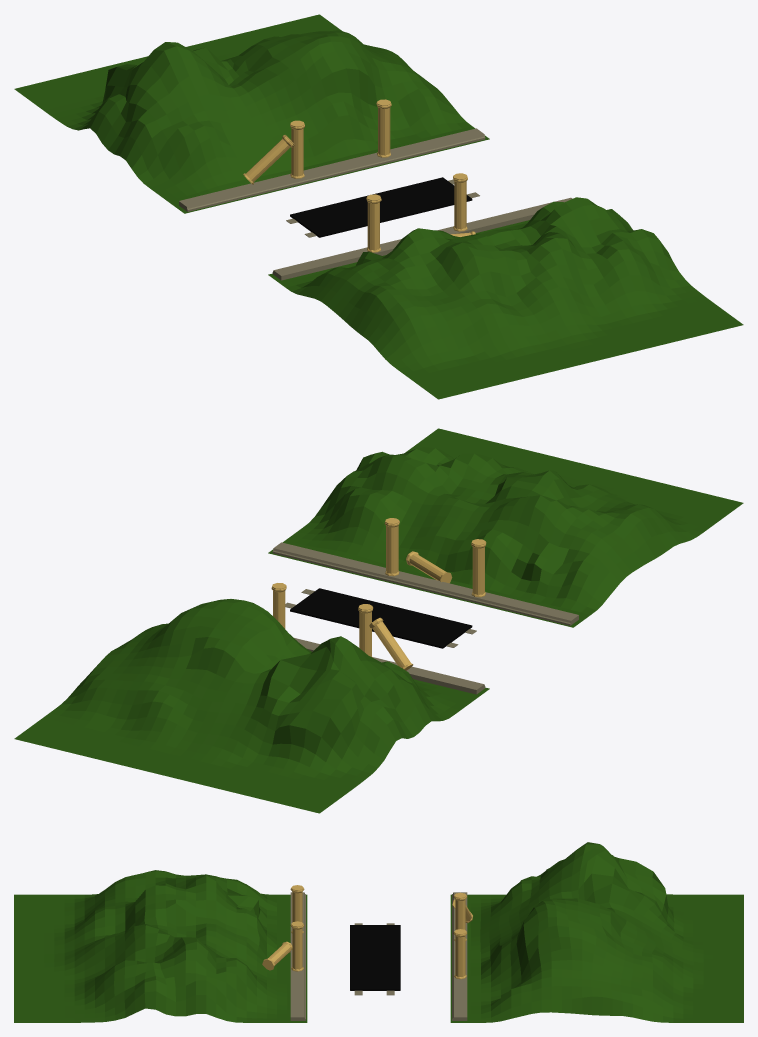
Rendered from BridgeTile.fbx.
3 renders of one model, top to bottom at view 1: azimuth 30°, elevation 25°; view 2: azimuth 150°, elevation 25°; view 3: azimuth 270°, elevation 25°, orthographic. The views are drawn at different scales.
Parts seen in each view (by area): view 1: Left_Mountain, Right_Mountain, Bridge, Right_PBase, Left_PBase, Pillar001, Pillar006, Pillar002, Pillar005, Pillar008; view 2: Right_Mountain, Left_Mountain, Bridge, Left_PBase, Right_PBase, Pillar002, Pillar001, Pillar008, Pillar005, Pillar007; view 3: Right_Mountain, Left_Mountain, Bridge, Left_PBase, Right_PBase, Pillar001, Pillar006, Pillar002, Pillar005, Pillar007.
Part boxes in pixels (x1=…): Left_Mountain: x1=268, y1=197, x2=743, y2=399; Right_Mountain: x1=14, y1=14, x2=489, y2=213; Bridge: x1=290, y1=177, x2=472, y2=237; Right_PBase: x1=179, y1=128, x2=485, y2=211; Left_PBase: x1=272, y1=197, x2=572, y2=280; Pillar001: x1=453, y1=173, x2=467, y2=231; Pillar006: x1=376, y1=99, x2=391, y2=157; Pillar002: x1=366, y1=194, x2=381, y2=252; Pillar005: x1=290, y1=120, x2=304, y2=178; Pillar008: x1=243, y1=135, x2=294, y2=184; Right_Mountain: x1=14, y1=599, x2=489, y2=813; Left_Mountain: x1=268, y1=428, x2=743, y2=627; Bridge: x1=290, y1=588, x2=472, y2=648; Left_PBase: x1=272, y1=542, x2=578, y2=625; Right_PBase: x1=294, y1=638, x2=485, y2=694; Pillar002: x1=471, y1=539, x2=486, y2=597; Pillar001: x1=384, y1=518, x2=399, y2=576; Pillar008: x1=369, y1=617, x2=413, y2=670; Pillar005: x1=358, y1=604, x2=373, y2=657; Pillar007: x1=406, y1=551, x2=452, y2=583; Right_Mountain: x1=450, y1=842, x2=743, y2=1022; Left_Mountain: x1=14, y1=870, x2=307, y2=1022; Bridge: x1=350, y1=925, x2=400, y2=990; Left_PBase: x1=290, y1=892, x2=305, y2=1020; Right_PBase: x1=452, y1=892, x2=467, y2=1020; Pillar001: x1=290, y1=921, x2=304, y2=971; Pillar006: x1=453, y1=929, x2=467, y2=979; Pillar002: x1=290, y1=885, x2=304, y2=933; Pillar005: x1=453, y1=892, x2=467, y2=940; Pillar007: x1=262, y1=941, x2=292, y2=970.
Size of the model in its own units: 6.02 by 1.75 by 14.43.
